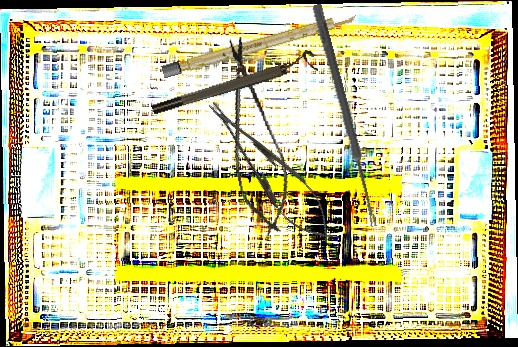Fixation Ring: (148, 48, 319, 118)
Micro Scissor: (209, 33, 299, 240)
Needle Holder: (195, 88, 346, 254)
Scalpel Handle: (161, 10, 358, 79)
Surgical Spoon: (310, 3, 381, 228)
